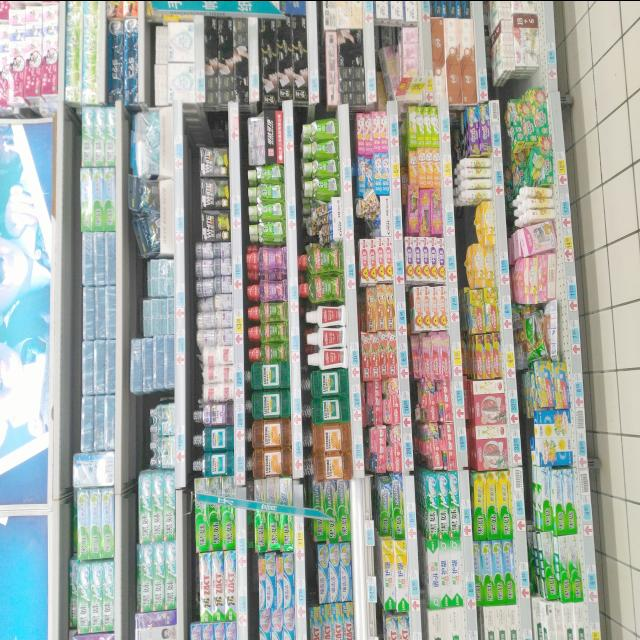empty_space: (199, 118, 228, 142), (511, 73, 549, 91)
